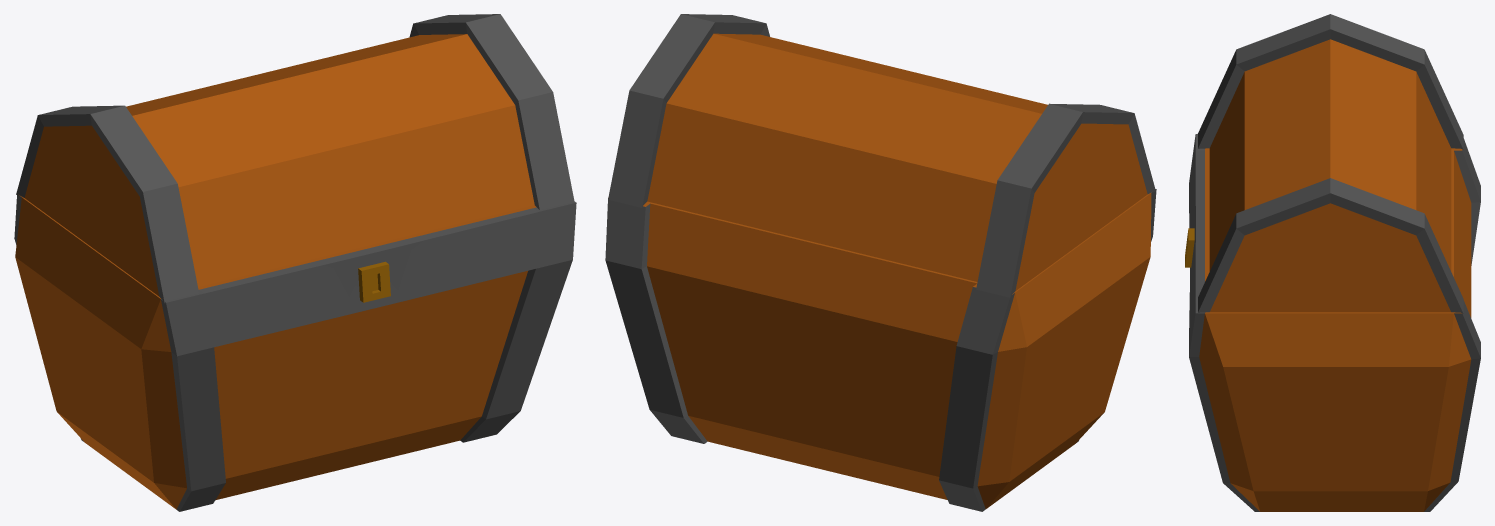
The model's file is Chest.fbx.
3 renders of one model, left to right at view 1: azimuth 30°, elevation 25°; view 2: azimuth 150°, elevation 25°; view 3: azimuth 270°, elevation 25°, orthographic. The views are drawn at different scales.
Parts seen in each view (by area): view 1: ChestTop; view 2: ChestTop; view 3: ChestTop.
Boxes of the visible parts, bbox=[...] form: ChestTop: bbox=[14, 14, 576, 511]; ChestTop: bbox=[605, 14, 1156, 511]; ChestTop: bbox=[1185, 14, 1480, 511].
Bounding box in the file's own units: 112 × 94.43 × 74.75.
